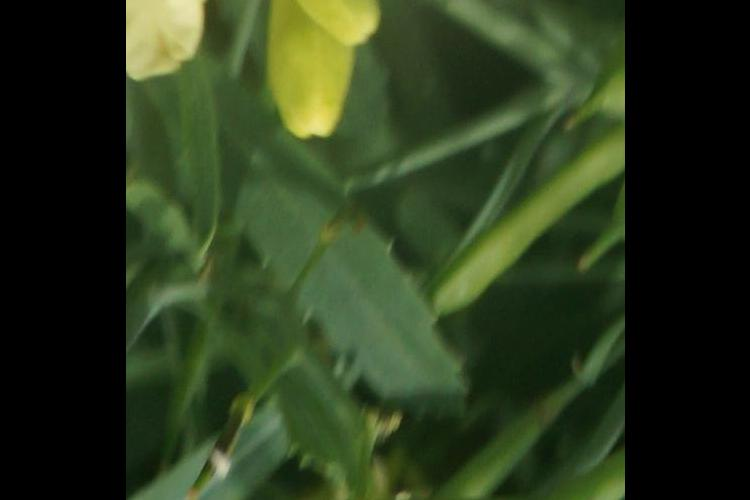bud: (266, 1, 365, 150), (267, 1, 385, 58)
